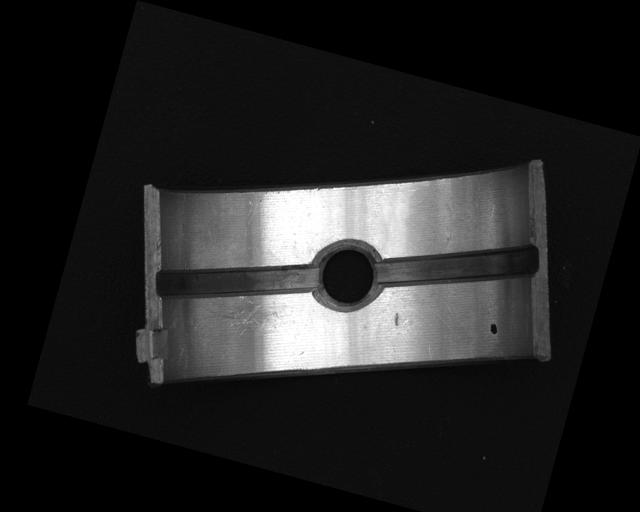blot: (487, 321, 500, 336)
bruise: (391, 311, 401, 327)
gap: (372, 210, 543, 322), (150, 227, 321, 336)
hole: (307, 235, 389, 316)
scratch: (197, 282, 292, 348)
